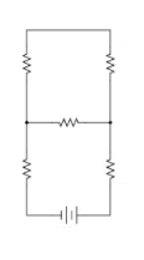resistor: (98, 43, 124, 81), (15, 146, 36, 188), (47, 110, 86, 129), (97, 151, 118, 183), (15, 46, 35, 79)
